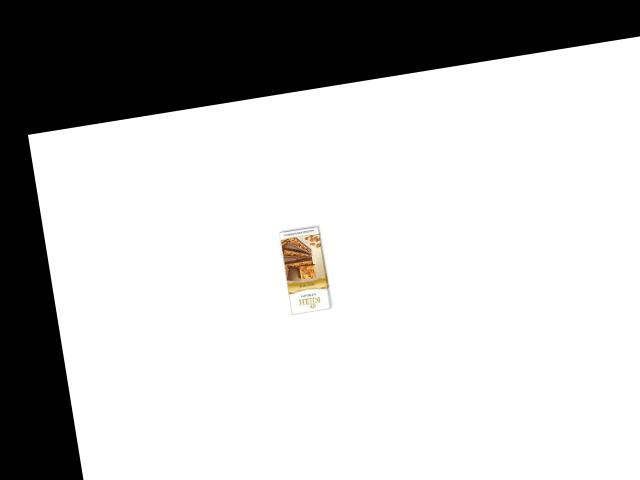chocolate: (270, 219, 348, 320)
